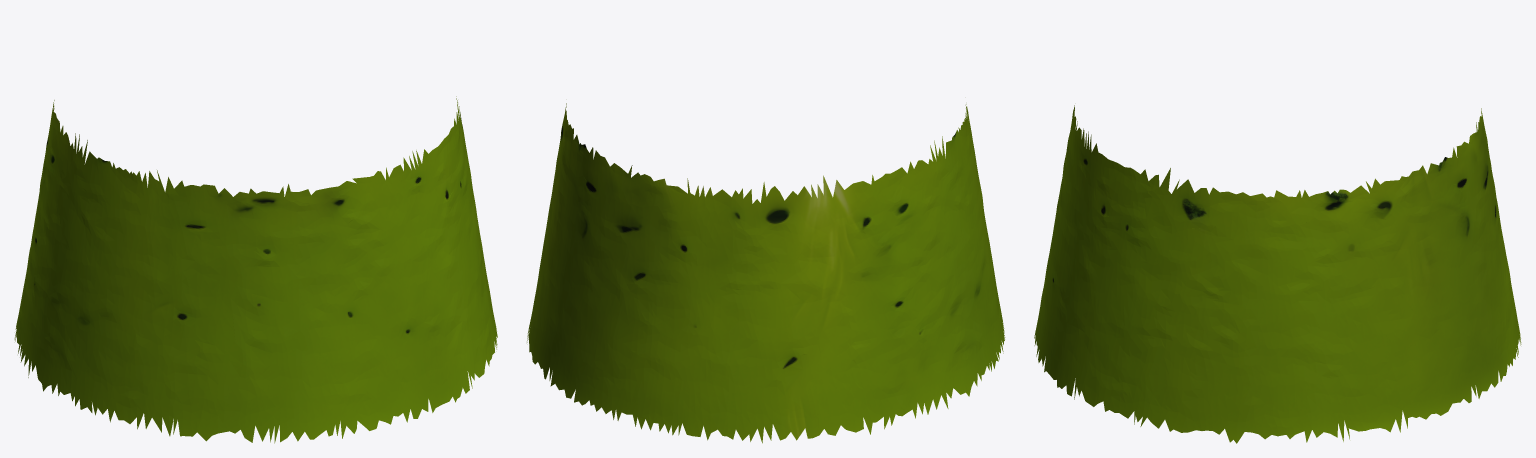
The model's file is matcha_isi.glb.
The picture shows the model from 3 angles, left to right: view 1: azimuth 30°, elevation 25°; view 2: azimuth 150°, elevation 25°; view 3: azimuth 270°, elevation 25°; orthographic projection.
Visible parts, largest first — view 1: matcha_isi; view 2: matcha_isi; view 3: matcha_isi.
Boxes of the visible parts, <box> form: matcha_isi: <box>14,96,497,443</box>; matcha_isi: <box>527,103,1005,443</box>; matcha_isi: <box>1034,105,1521,443</box>.
Size of the model in its own units: 0.8385 by 0.4867 by 0.858.
1 material, 1 textured.
